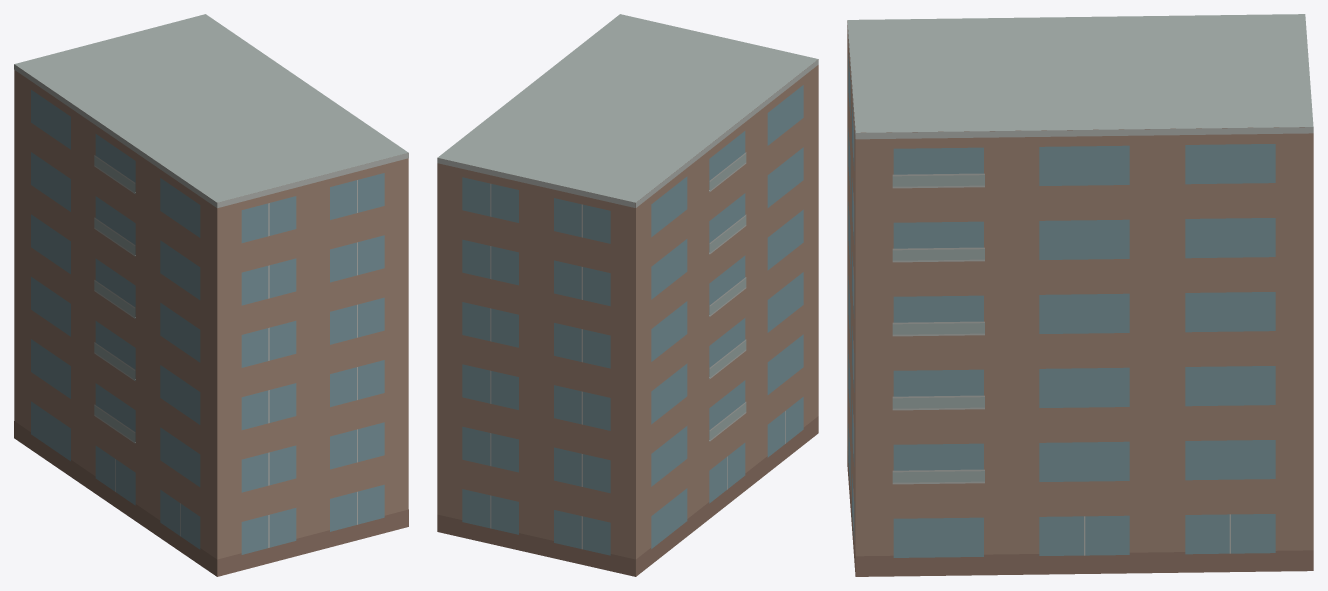
The model's file is survey-upis-32980946.glb.
The picture shows the model from 3 angles, left to right: view 1: azimuth 30°, elevation 25°; view 2: azimuth 150°, elevation 25°; view 3: azimuth 270°, elevation 25°; orthographic projection. The views are drawn at different scales.
Parts seen in each view (by area): view 1: survey-upis-32980946.tmp; view 2: survey-upis-32980946.tmp; view 3: survey-upis-32980946.tmp.
Part boxes in pixels (x1,y1,x2,y2): survey-upis-32980946.tmp: (14,14,408,576); survey-upis-32980946.tmp: (437,14,818,576); survey-upis-32980946.tmp: (847,14,1313,576).
Bounding box in the file's own units: 9.6 × 16.7 × 15.9.
